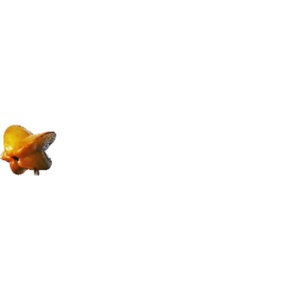carambola: (1, 125, 56, 176)
